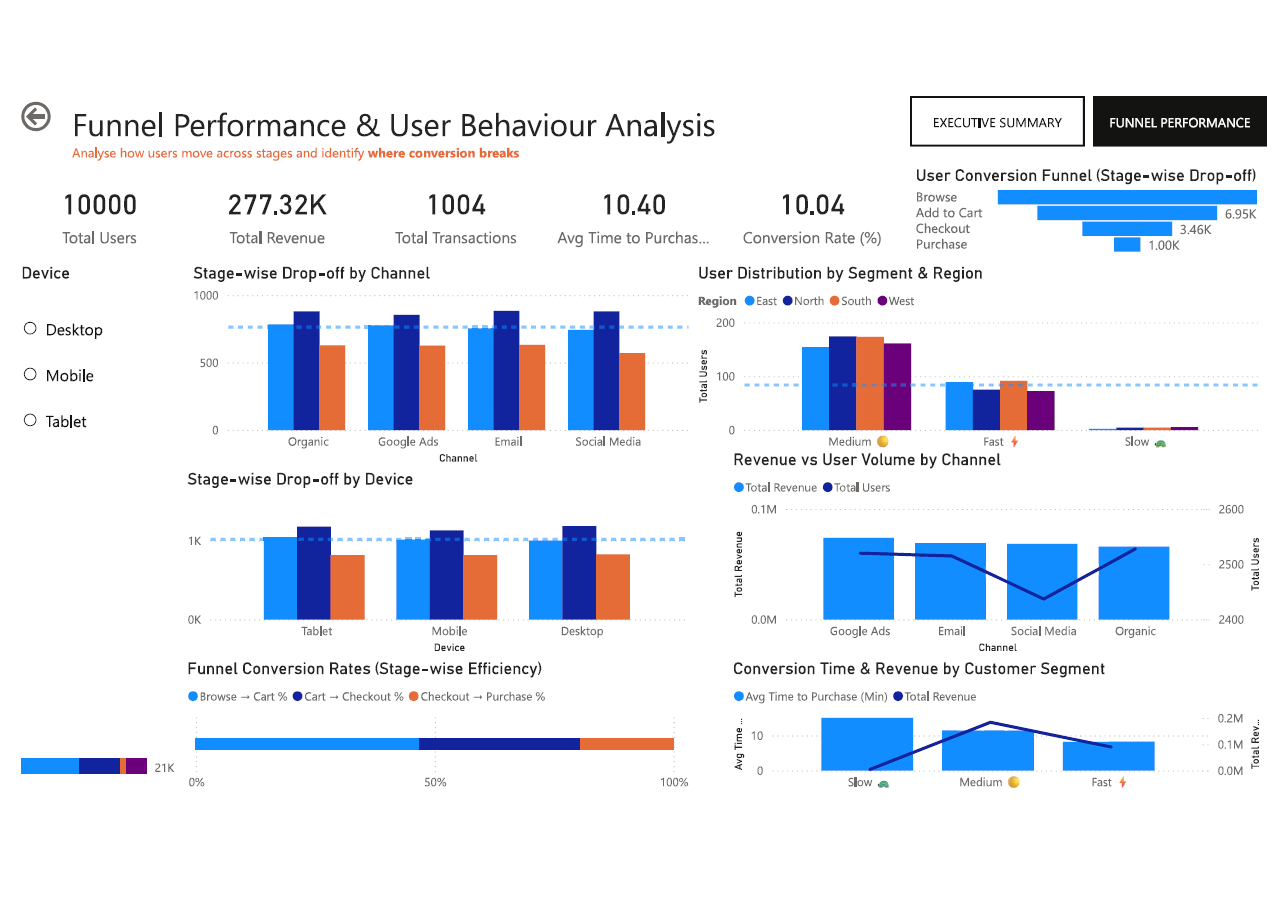

The dashboard page shown, as its layout file describes it:
{"tool":"powerbi","page":{"name":"FUNNEL PERFORMANCE","canvas":[1280,720],"ordinal":1},"visuals":[{"type":"textbox","box":[52.2,0,863.3,82.1],"z":0},{"type":"card","fields":{"Values":["Calculations.Conversion Rate (%)"]},"box":[729.5,69.1,170,100],"z":1000},{"type":"card","fields":{"Values":["Calculations.Total Users"]},"box":[0,69.1,170,100],"z":2000},{"type":"card","fields":{"Values":["Calculations.Total Transactions"]},"box":[364.8,69.1,170,100],"z":3000},{"type":"card","fields":{"Values":["Calculations.Total Revenue"]},"box":[182.4,69.1,170,100],"z":4000},{"type":"funnel","title":"User Conversion Funnel (Stage-wise Drop-off)","fields":{"Category":["funnel_data.Event"],"Y":["CountNonNull(funnel_data.User ID)"]},"box":[915.6,69.7,364.5,95.8],"z":5000},{"type":"card","fields":{"Values":["Calculations.Avg Time to Purchase (Min)"]},"box":[547.1,69.1,170,100],"z":6000},{"type":"barChart","fields":{"Y":["Calculations.Browse Users","Calculations.Cart Users","Calculations.Purchase Users","Calculations.Checkout Users"]},"box":[0,645.4,169.6,73.6],"z":7000},{"type":"hundredPercentStackedBarChart","title":"Funnel Conversion Rates (Stage-wise Efficiency)","fields":{"Y":["Calculations.Browse → Cart %","Calculations.Cart → Checkout %","Calculations.Checkout → Purchase %"]},"box":[170,575,522.6,144.6],"z":8000},{"type":"clusteredColumnChart","title":"Stage-wise Drop-off by Channel","fields":{"Y":["Calculations.Drop Browse → Cart","Calculations.Drop Cart → Checkout","Calculations.Drop Checkout → Purchase"],"Category":["funnel_data.Channel"]},"box":[176.3,170,516.3,211.3],"z":9000},{"type":"clusteredColumnChart","title":"Stage-wise Drop-off by Device","fields":{"Category":["funnel_data.Device"],"Y":["Calculations.Drop Browse → Cart","Calculations.Drop Cart → Checkout","Calculations.Drop Checkout → Purchase"]},"box":[170,381.2,522.6,193.8],"z":10000},{"type":"clusteredColumnChart","title":"User Distribution by Segment & Region","fields":{"Category":["User Funnel Table.User Segment"],"Series":["funnel_data.Region"],"Y":["Calculations.Total Users"]},"box":[692.6,170,587.7,211.3],"z":11000},{"type":"lineClusteredColumnComboChart","title":"Conversion Time & Revenue by Customer Segment","fields":{"Category":["User Funnel Table.User Segment"],"Y":["Calculations.Avg Time to Purchase (Min)"],"Y2":["Calculations.Total Revenue"]},"box":[729.1,575,551.2,144.6],"z":12000},{"type":"lineClusteredColumnComboChart","title":"Revenue vs User Volume by Channel","fields":{"Category":["funnel_data.Channel"],"Y":["Calculations.Total Revenue"],"Y2":["Calculations.Total Users"]},"box":[729.1,360.6,551.2,214.4],"z":13000},{"type":"listSlicer","fields":{"Values":["funnel_data.Device"]},"box":[0,170.4,176.6,210.2],"z":14000},{"type":"actionButton","box":[0,0,52.2,39.8],"z":15000},{"type":"pageNavigator","box":[915.6,0,364.5,49.8],"z":16000}]}

Visuals, with their boxes on the page's 1280x720 design canvas (x1, y1, x2, y2). These are canvas units, not pixel positions in the 1288x904 screenshot, which may show the page scaled, cropped or inside an application window:
textbox: select_region(52, 0, 916, 82)
card - Calculations.Conversion Rate (%): select_region(730, 69, 900, 169)
card - Calculations.Total Users: select_region(0, 69, 170, 169)
card - Calculations.Total Transactions: select_region(365, 69, 535, 169)
card - Calculations.Total Revenue: select_region(182, 69, 352, 169)
"User Conversion Funnel (Stage-wise Drop-off)" funnel: select_region(916, 70, 1280, 166)
card - Calculations.Avg Time to Purchase (Min): select_region(547, 69, 717, 169)
barChart - Calculations.Browse Users x Calculations.Cart Users: select_region(0, 645, 170, 719)
"Funnel Conversion Rates (Stage-wise Efficiency)" hundredPercentStackedBarChart: select_region(170, 575, 693, 720)
"Stage-wise Drop-off by Channel" clusteredColumnChart: select_region(176, 170, 693, 381)
"Stage-wise Drop-off by Device" clusteredColumnChart: select_region(170, 381, 693, 575)
"User Distribution by Segment & Region" clusteredColumnChart: select_region(693, 170, 1280, 381)
"Conversion Time & Revenue by Customer Segment" lineClusteredColumnComboChart: select_region(729, 575, 1280, 720)
"Revenue vs User Volume by Channel" lineClusteredColumnComboChart: select_region(729, 361, 1280, 575)
listSlicer - funnel_data.Device: select_region(0, 170, 177, 381)
actionButton: select_region(0, 0, 52, 40)
pageNavigator: select_region(916, 0, 1280, 50)
